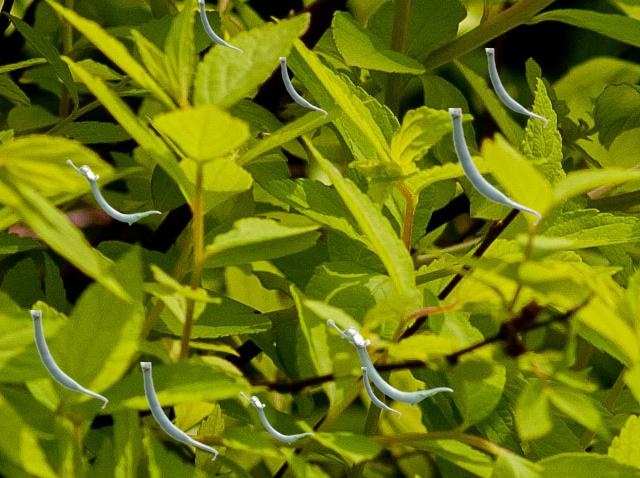french_bean: (326, 318, 452, 406), (448, 108, 540, 225), (30, 310, 107, 408), (140, 362, 217, 460), (66, 159, 160, 224), (485, 48, 547, 127), (239, 391, 313, 443), (279, 57, 326, 117), (198, 0, 241, 55), (361, 367, 400, 417)
